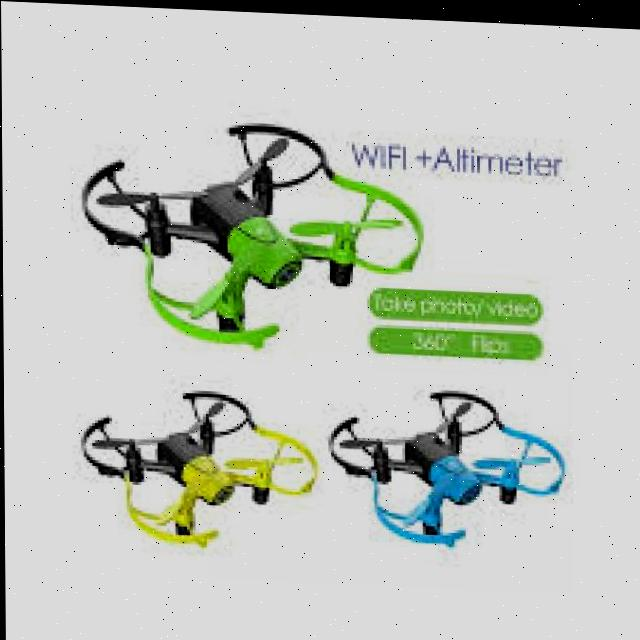drone: (62, 102, 432, 342), (66, 359, 317, 558), (329, 385, 575, 550)
